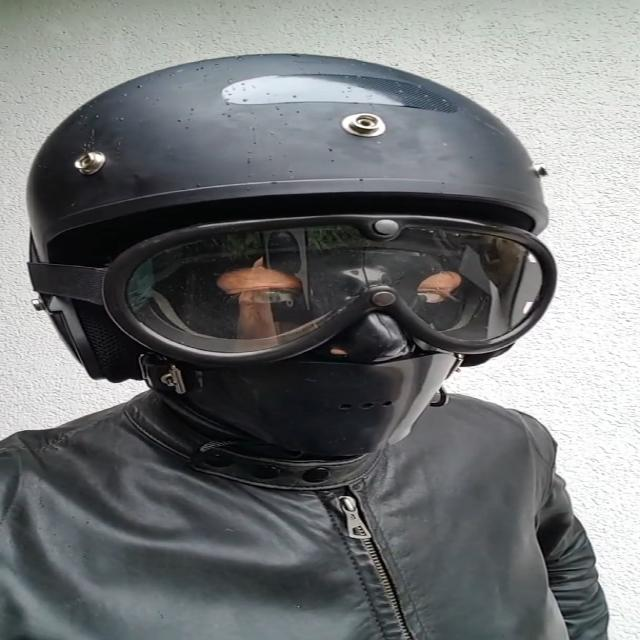Helmet_Wearer: (9, 50, 607, 490)
Jacket_Wearer: (0, 340, 616, 640)
Person: (0, 65, 616, 640)
